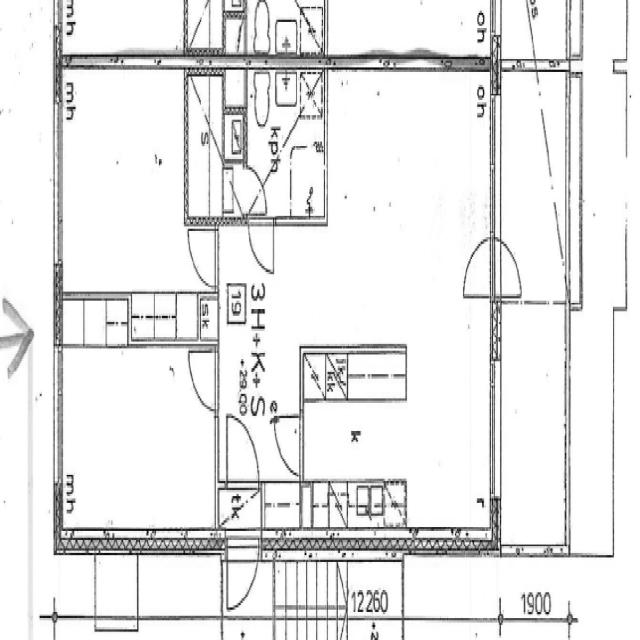door: (222, 409, 262, 492), (223, 530, 260, 614), (186, 218, 220, 292), (459, 232, 493, 301), (187, 345, 219, 415), (272, 411, 304, 480), (494, 236, 526, 303), (246, 206, 276, 277), (238, 163, 268, 216)
window: (49, 100, 69, 276), (484, 85, 506, 244), (486, 354, 505, 506), (50, 344, 67, 496)
zone: (300, 80, 496, 565), (296, 349, 484, 538), (58, 64, 196, 312), (57, 334, 218, 546), (496, 65, 574, 314), (496, 304, 569, 554), (244, 65, 324, 217), (65, 0, 198, 63), (186, 72, 228, 221), (138, 554, 222, 622), (246, 0, 325, 57), (344, 558, 404, 631), (93, 551, 139, 624), (290, 130, 326, 221), (54, 551, 97, 621), (262, 480, 304, 548), (186, 0, 224, 56)
